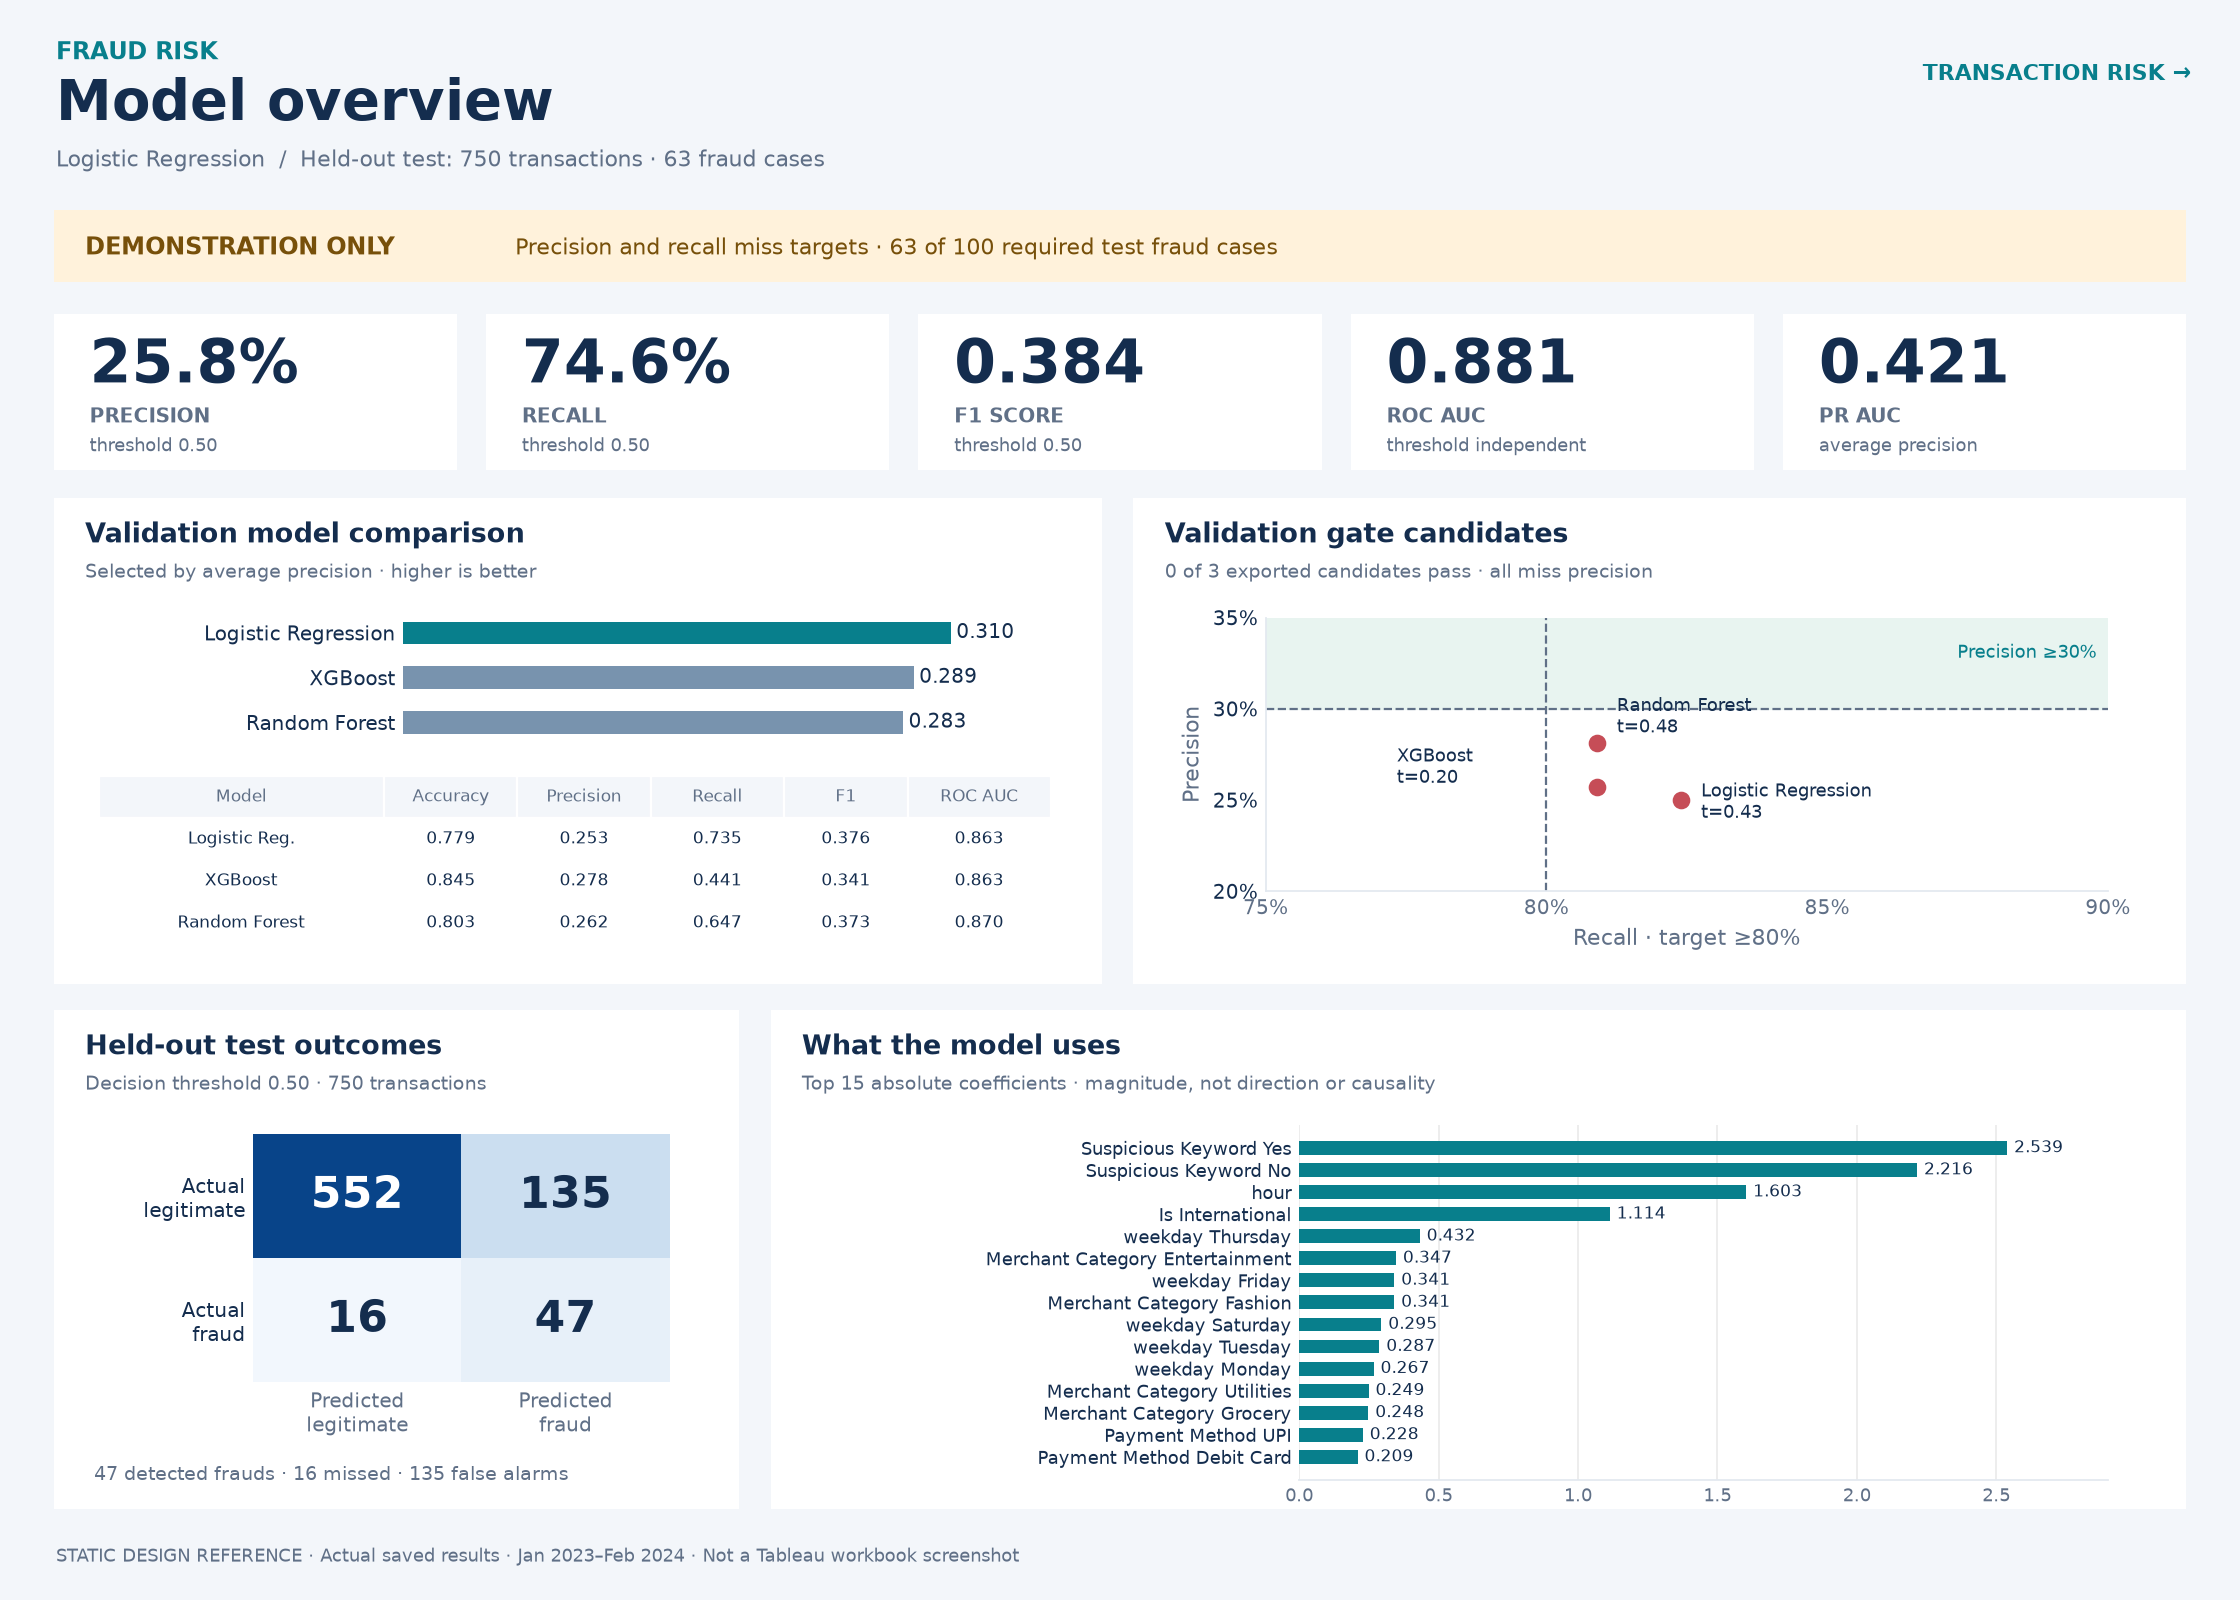

The page's visual inventory and layout, read from the dashboard file:
{"tool":"tableau","page":{"name":"Model Overview","canvas":[1366,768],"ordinal":0},"visuals":[{"type":"text","box":[8,8,1350,89.5]},{"type":"dashboard-object","box":[1034,15,209,68]},{"type":"text","box":[8,97.5,1350,21]},{"type":"worksheet","title":"M01 Precision","mark":"Text","box":[8,119,270,100]},{"type":"worksheet","title":"M02 Recall","mark":"Text","box":[278,119,270,100]},{"type":"worksheet","title":"M03 F1","mark":"Text","box":[548,119,270,100]},{"type":"worksheet","title":"M04 ROC AUC","mark":"Text","box":[818,119,270,100]},{"type":"worksheet","title":"M05 PR AUC","mark":"Text","box":[1088,119,270,100]},{"type":"worksheet","title":"M06 Model Comparison","mark":"Bar","rows":["Model"],"cols":["Value"],"box":[8,219,613,192]},{"type":"worksheet","title":"M08 Gate Candidates","mark":"Circle","rows":["Precision"],"cols":["Recall"],"box":[621,219,737,210]},{"type":"worksheet","title":"M07 Model Detail Table","mark":"Automatic","rows":["Model"],"cols":["Metric"],"box":[8,411,613,126]},{"type":"worksheet","title":"M10 Feature Importance","mark":"Bar","rows":["Feature_Label"],"cols":["importance"],"box":[621,429,737,331]},{"type":"worksheet","title":"M09 Confusion Matrix","mark":"Square","rows":["Calculation_3460003310559236"],"cols":["Calculation_3460003310796805"],"box":[8,537,613,223]}]}

Visuals, with their boxes on the page's 1366x768 design canvas (x1, y1, x2, y2). These are canvas units, not pixel positions in the 2240x1600 screenshot, which may show the page scaled, cropped or inside an application window:
text: {"x1": 8, "y1": 8, "x2": 1358, "y2": 98}
dashboard-object: {"x1": 1034, "y1": 15, "x2": 1243, "y2": 83}
text: {"x1": 8, "y1": 98, "x2": 1358, "y2": 118}
"M01 Precision" worksheet (Text marks): {"x1": 8, "y1": 119, "x2": 278, "y2": 219}
"M02 Recall" worksheet (Text marks): {"x1": 278, "y1": 119, "x2": 548, "y2": 219}
"M03 F1" worksheet (Text marks): {"x1": 548, "y1": 119, "x2": 818, "y2": 219}
"M04 ROC AUC" worksheet (Text marks): {"x1": 818, "y1": 119, "x2": 1088, "y2": 219}
"M05 PR AUC" worksheet (Text marks): {"x1": 1088, "y1": 119, "x2": 1358, "y2": 219}
"M06 Model Comparison" worksheet (Bar marks): {"x1": 8, "y1": 219, "x2": 621, "y2": 411}
"M08 Gate Candidates" worksheet (Circle marks): {"x1": 621, "y1": 219, "x2": 1358, "y2": 429}
"M07 Model Detail Table" worksheet: {"x1": 8, "y1": 411, "x2": 621, "y2": 537}
"M10 Feature Importance" worksheet (Bar marks): {"x1": 621, "y1": 429, "x2": 1358, "y2": 760}
"M09 Confusion Matrix" worksheet (Square marks): {"x1": 8, "y1": 537, "x2": 621, "y2": 760}
